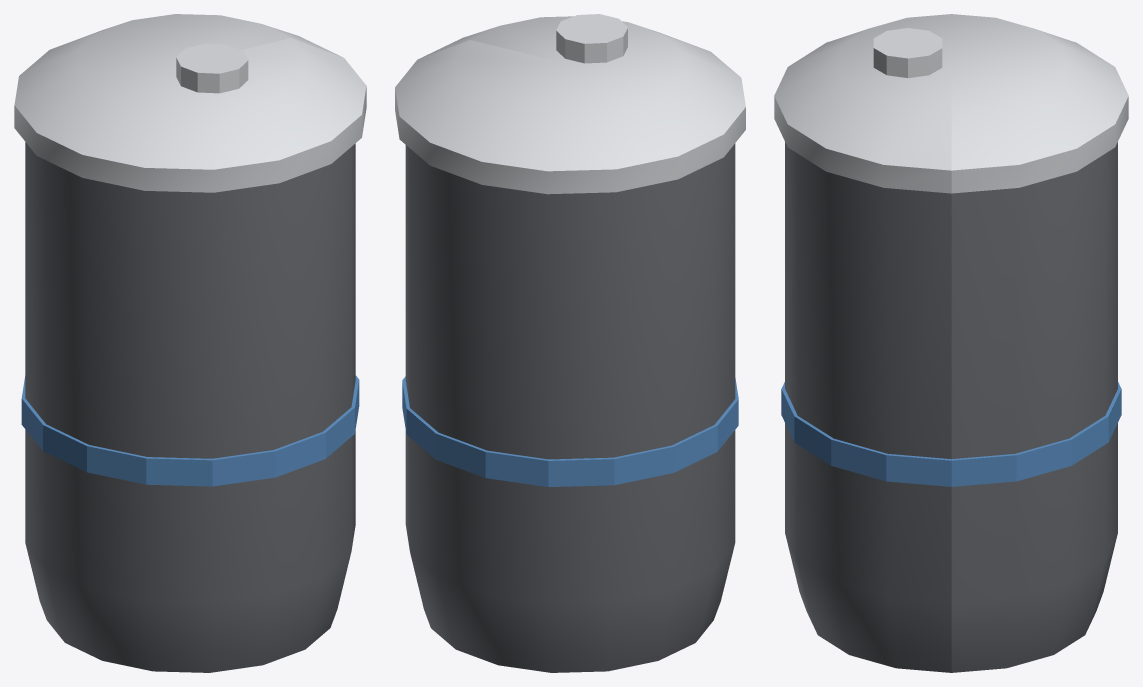
Rendered from community-sports-hall-and-changing-rooms-foyer-bin-b2789118.glb.
3 renders of one model, left to right at view 1: azimuth 30°, elevation 25°; view 2: azimuth 150°, elevation 25°; view 3: azimuth 270°, elevation 25°, orthographic.
Parts seen in each view (by area): view 1: foyer-bin, bin-lid; view 2: foyer-bin, bin-lid; view 3: foyer-bin, bin-lid.
Part boxes in pixels (x1,y1,x2,y2): foyer-bin: [21, 142, 359, 672]; bin-lid: [14, 14, 366, 192]; foyer-bin: [402, 143, 738, 672]; bin-lid: [395, 14, 745, 194]; foyer-bin: [781, 142, 1121, 672]; bin-lid: [774, 14, 1128, 193].
Size of the model in its own units: 0.49 by 0.867 by 0.49.
